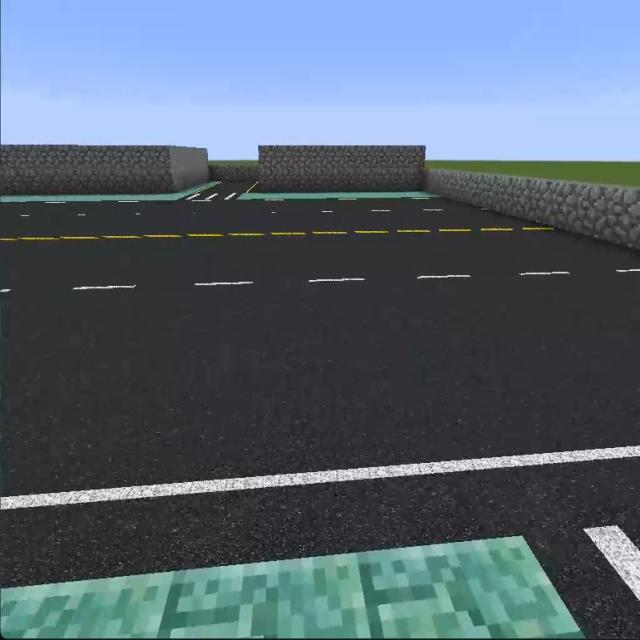crosswalk: (184, 189, 238, 202)
road: (9, 199, 629, 538), (0, 536, 584, 639)
sidewalk: (0, 181, 221, 202), (238, 191, 435, 199)
